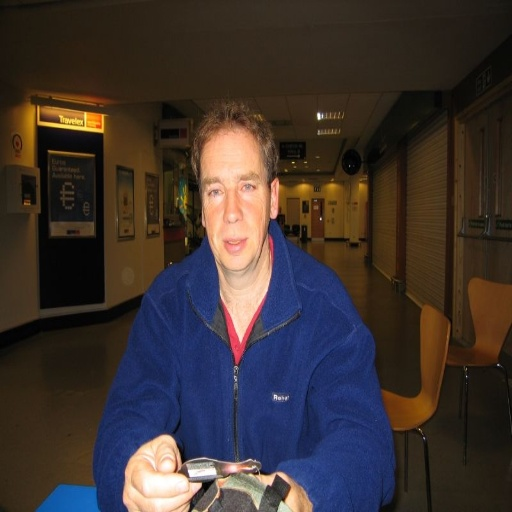hand: (126, 430, 190, 505), (249, 469, 311, 510)
